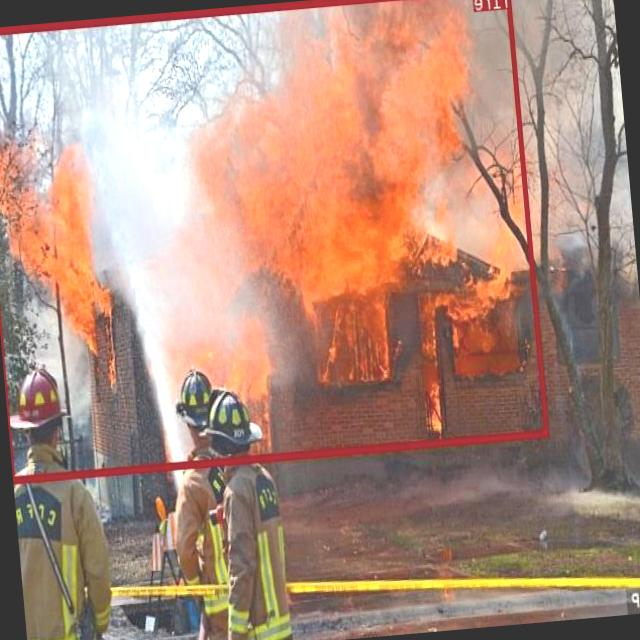fire: (0, 0, 550, 482)
